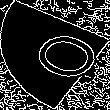O_SE: (9, 23, 101, 87)
